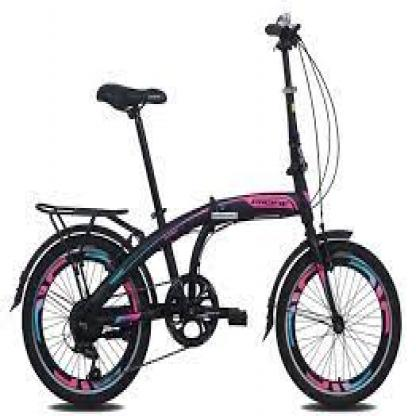Bike: (9, 7, 405, 415)
